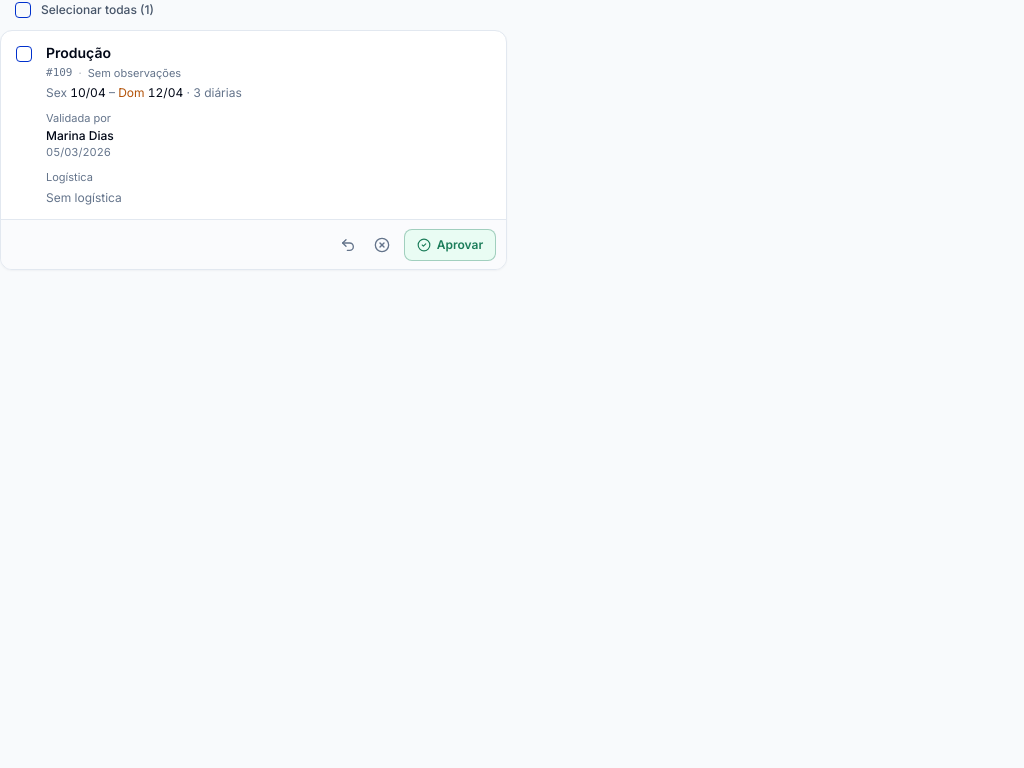
Test: Aprovação → detalhe da vaga no estilo da Validação › Reprovar a última vaga da lista: mesma mutação, e o detalhe fecha
Click the cell that starts with "Produção" at (78, 52), box [32,31,506,101]
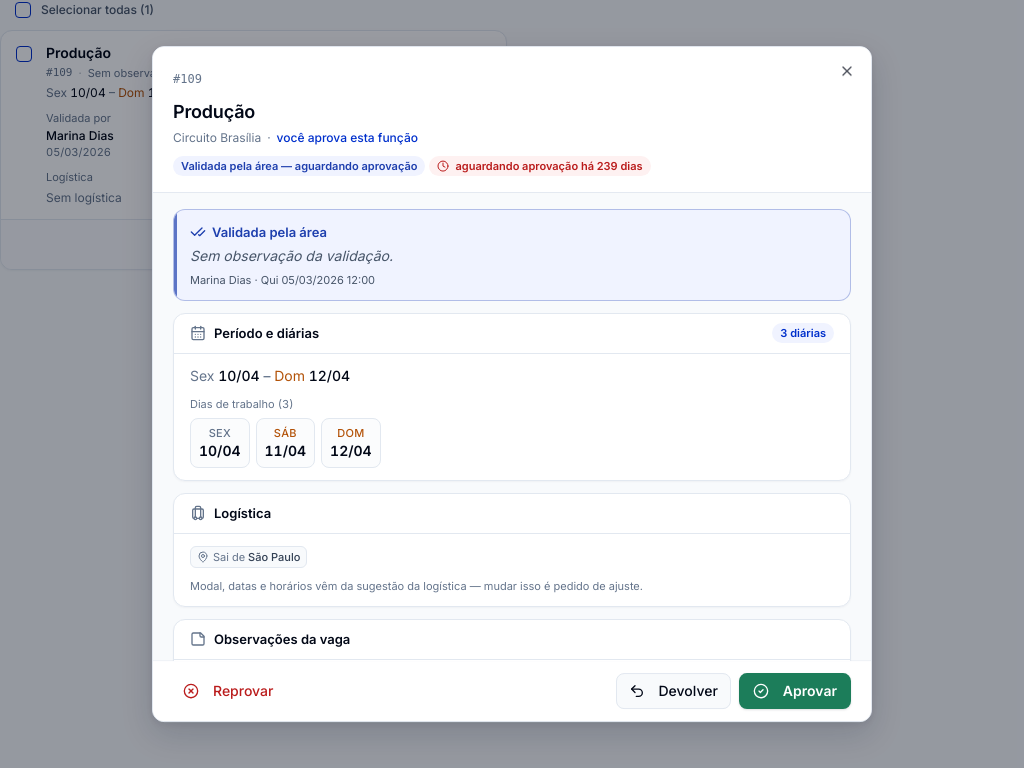
Click the button "Reprovar" at (228, 691), box [173,673,283,709]
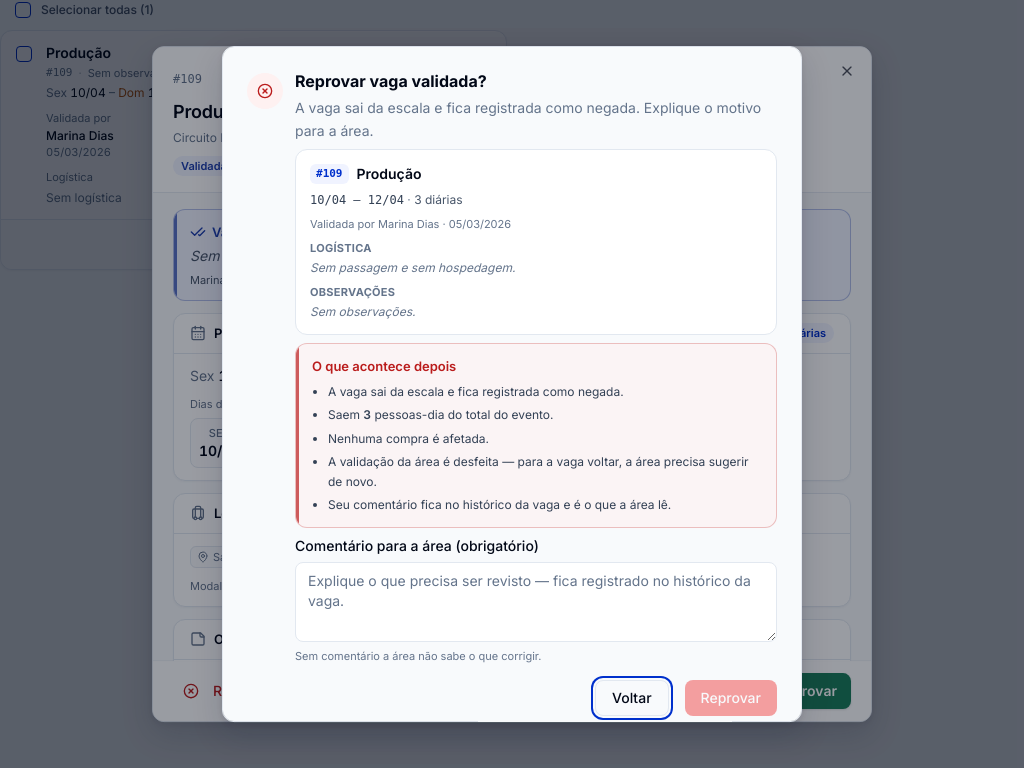
Click the text box labelled "Comentário para a área (obrigatório)" at (536, 602), box [295,562,777,642]
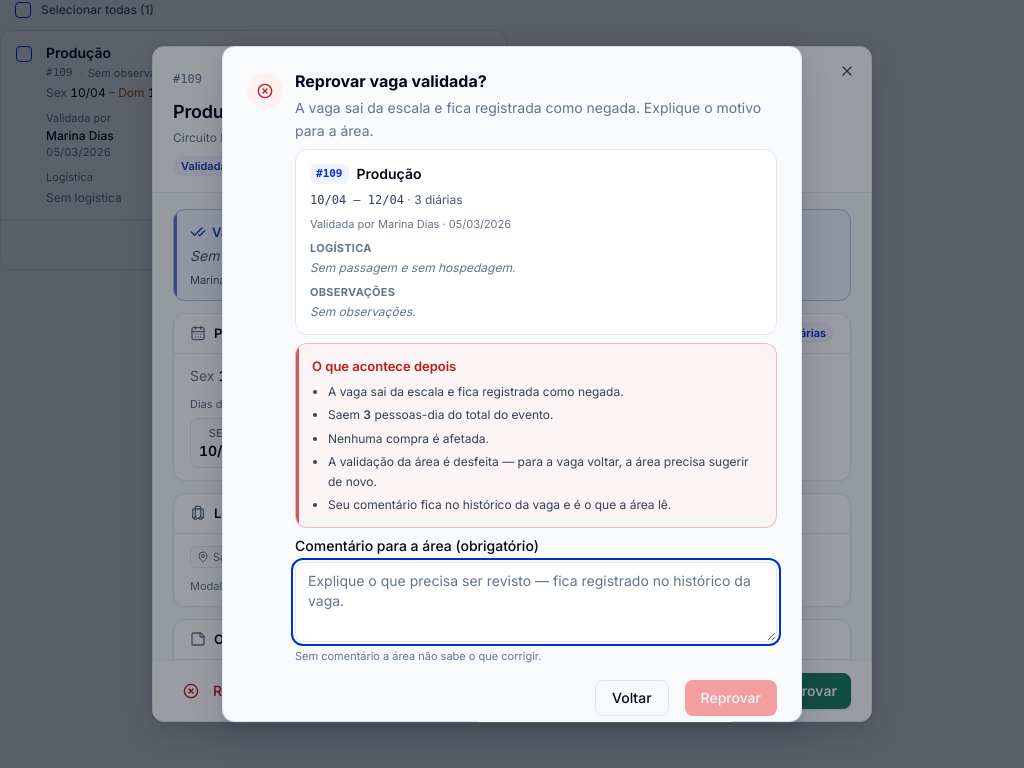
Type keys "Escala refeita"
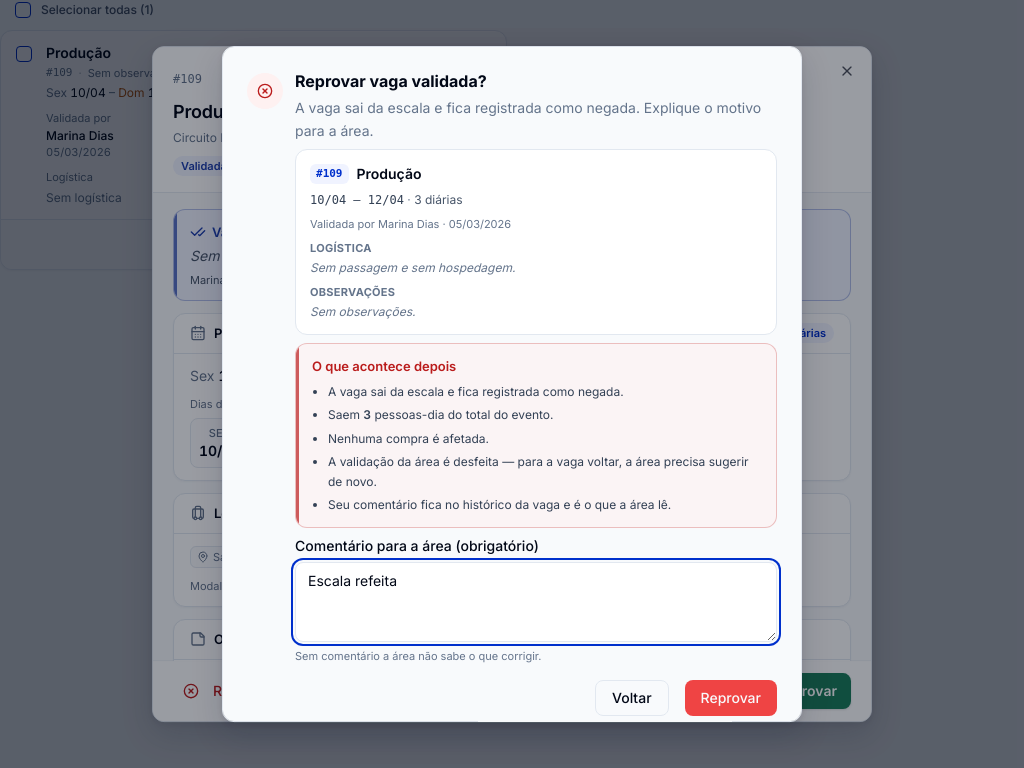
Click the button "Reprovar" at (731, 698), box [685,680,777,716]
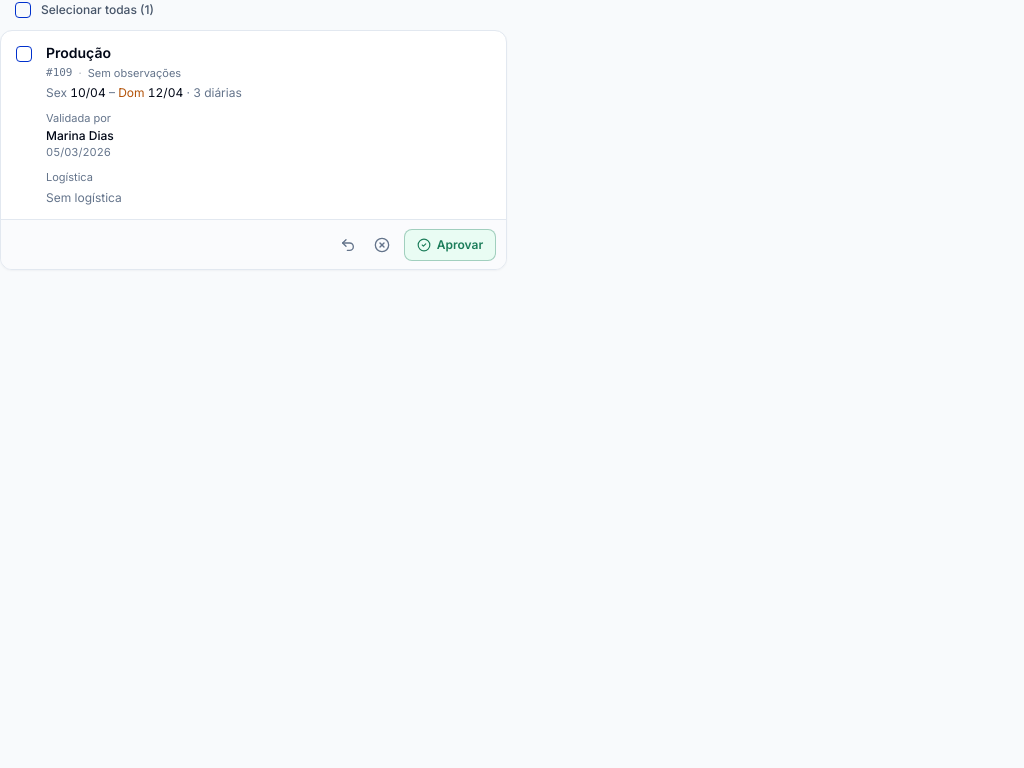
Now the dialog with test id "detalhe-da-vaga" is gone
